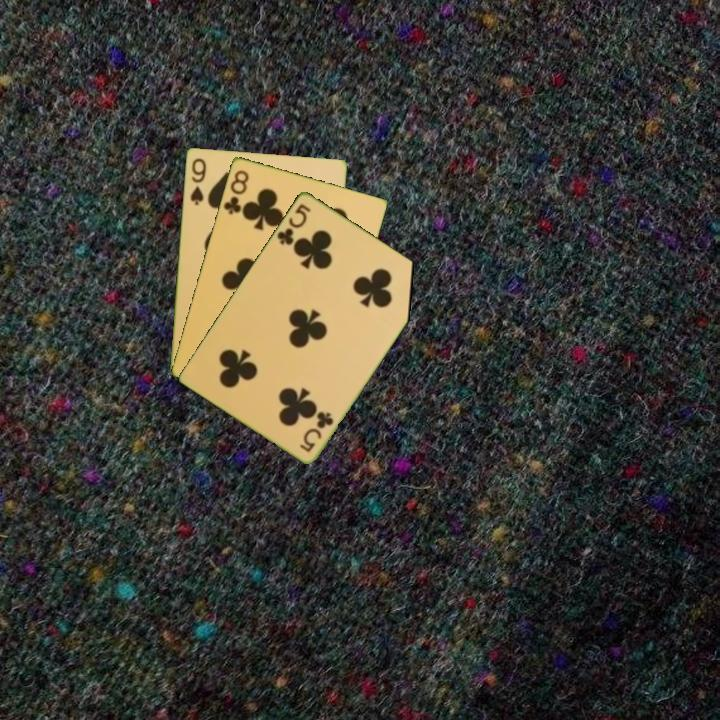5c: (273, 200, 313, 248), (296, 407, 336, 455)
8c: (220, 166, 252, 217)
9s: (186, 155, 209, 208)
